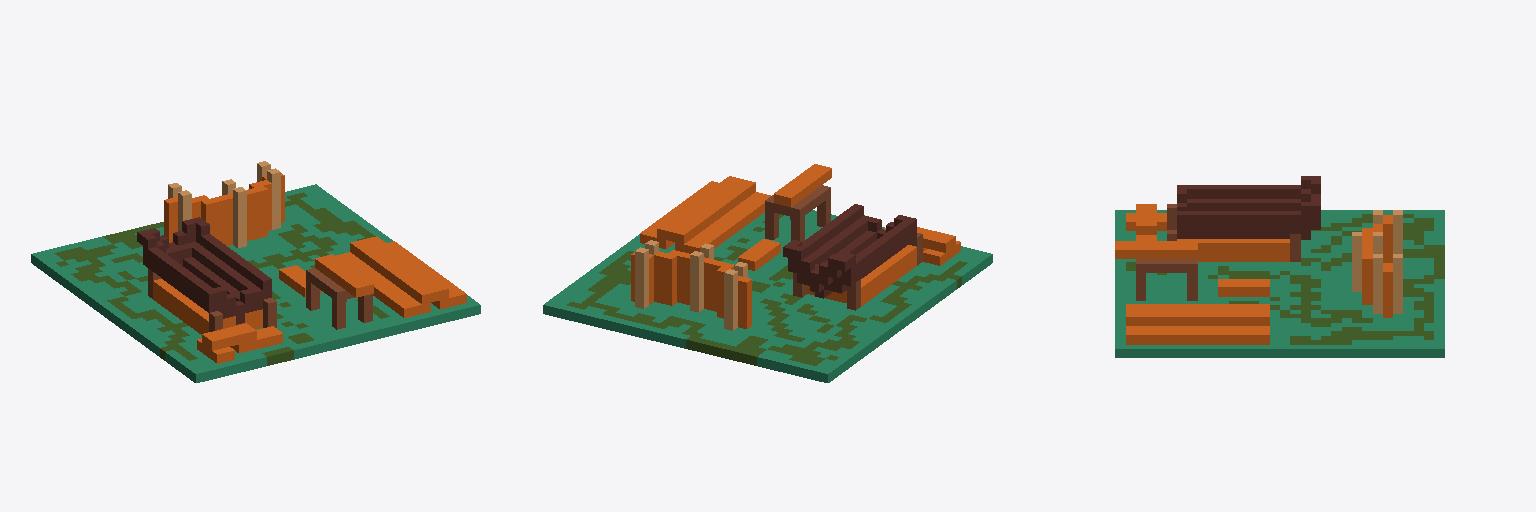
The picture shows the model from 3 angles: view 1: azimuth 30°, elevation 25°; view 2: azimuth 150°, elevation 25°; view 3: azimuth 270°, elevation 25°; orthographic projection.
Parts seen in each view (by area): view 1: object 1; view 2: object 1; view 3: object 1.
Part boxes in pixels (x1,y1,x2,y2): object 1: (31,161,480,382); object 1: (543,164,992,382); object 1: (1115,176,1444,357).
Size of the model in its own units: 3.2 by 0.7 by 3.2.
Materials: 1 (1 with a texture image).